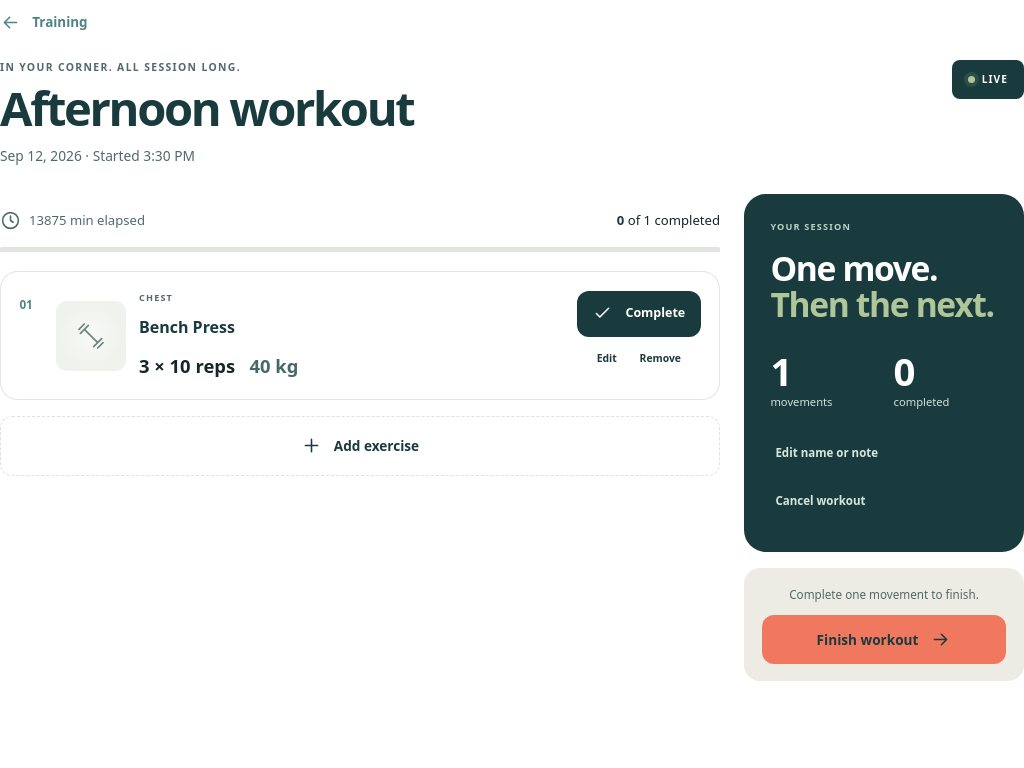
Test: Training lifecycle › requires cancellation confirmation and shows no invented statistics
Click the button "Cancel workout": (820, 502) [770,478,870,526]
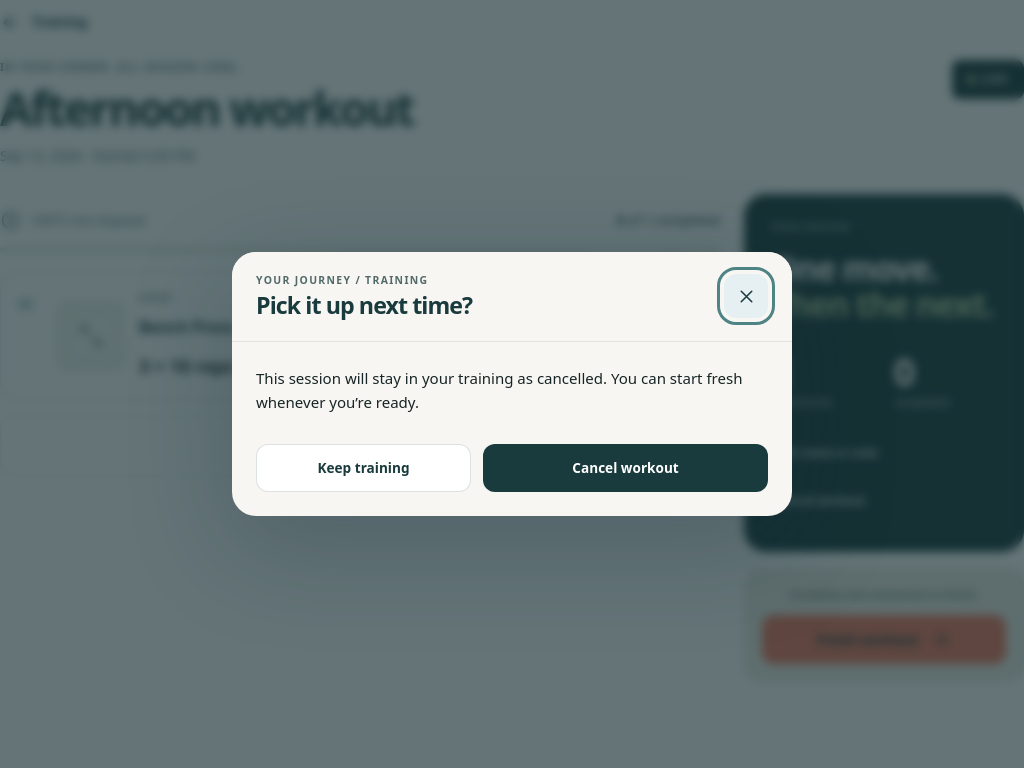
Click the button "Cancel workout": (626, 468) [483,444,768,492]
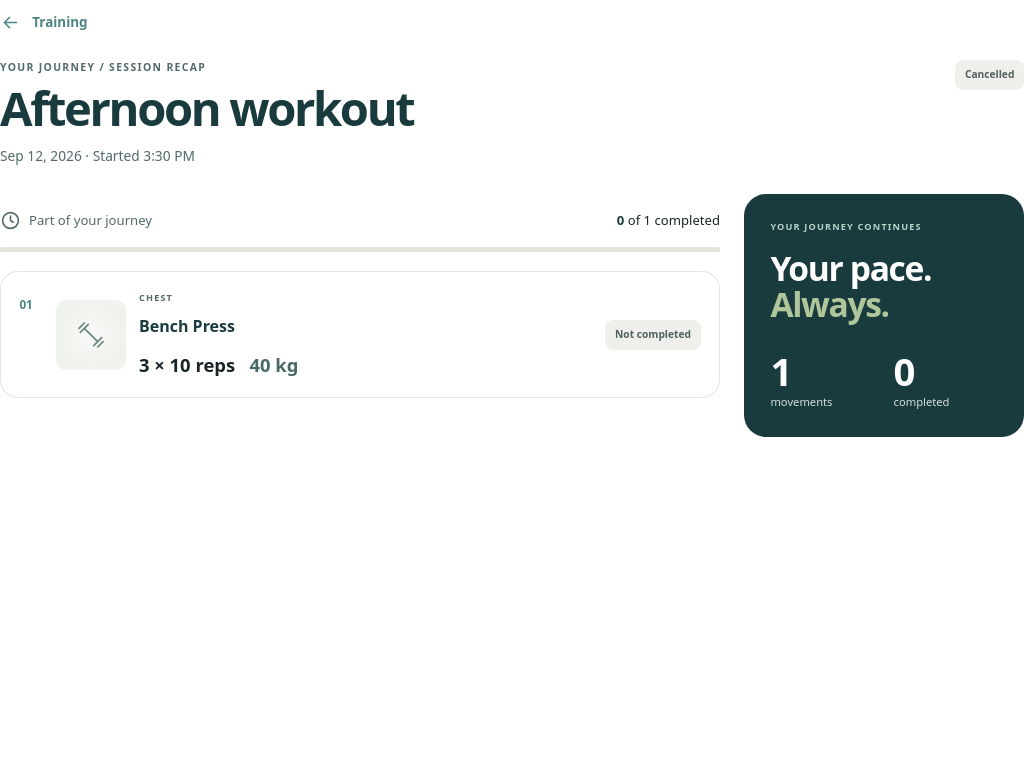
Check: the text "Cancelled" is shown, box [955,60,1023,90]
